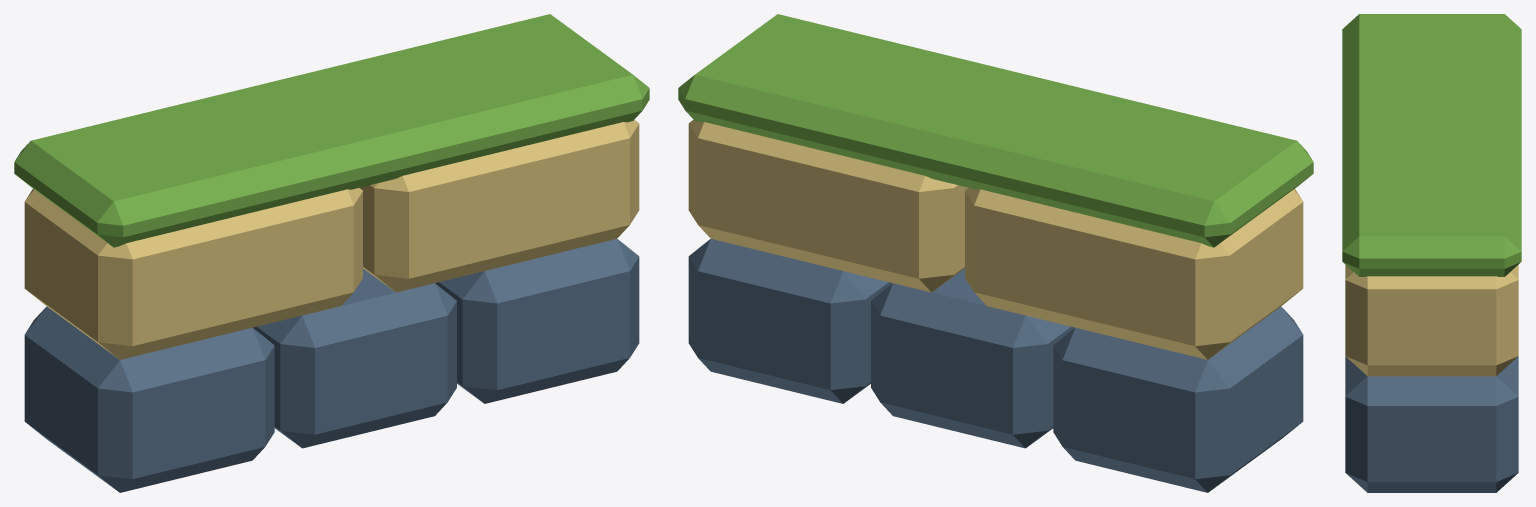
Rendered from wall.glb.
3 views of the same model, side by side, from view 1: azimuth 30°, elevation 25°; view 2: azimuth 150°, elevation 25°; view 3: azimuth 270°, elevation 25° (orthographic). The views are drawn at different scales.
Visible parts, largest first — view 1: wall_Surface; view 2: wall_Surface; view 3: wall_Surface.
Part boxes in pixels (x1,y1,x2,y2): wall_Surface: [14, 14, 649, 492]; wall_Surface: [678, 14, 1313, 492]; wall_Surface: [1342, 14, 1521, 492].
Size of the model in its own units: 1 by 0.515 by 0.32.
Materials: 1 (1 with a texture image).
